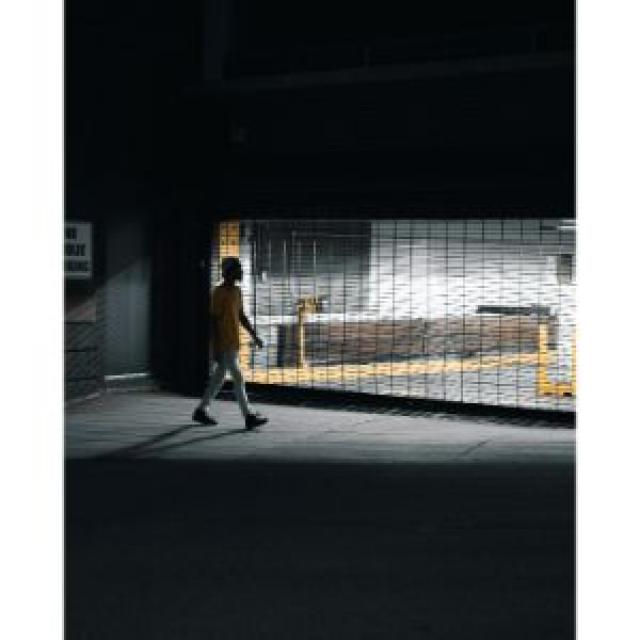nonfall: (193, 246, 281, 438)
